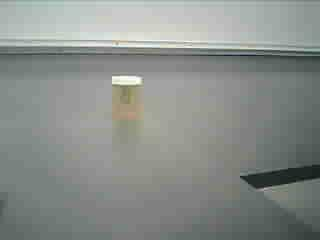Bottle B: (105, 70, 156, 127)
